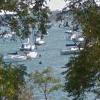Boat: (3, 41, 41, 63)
